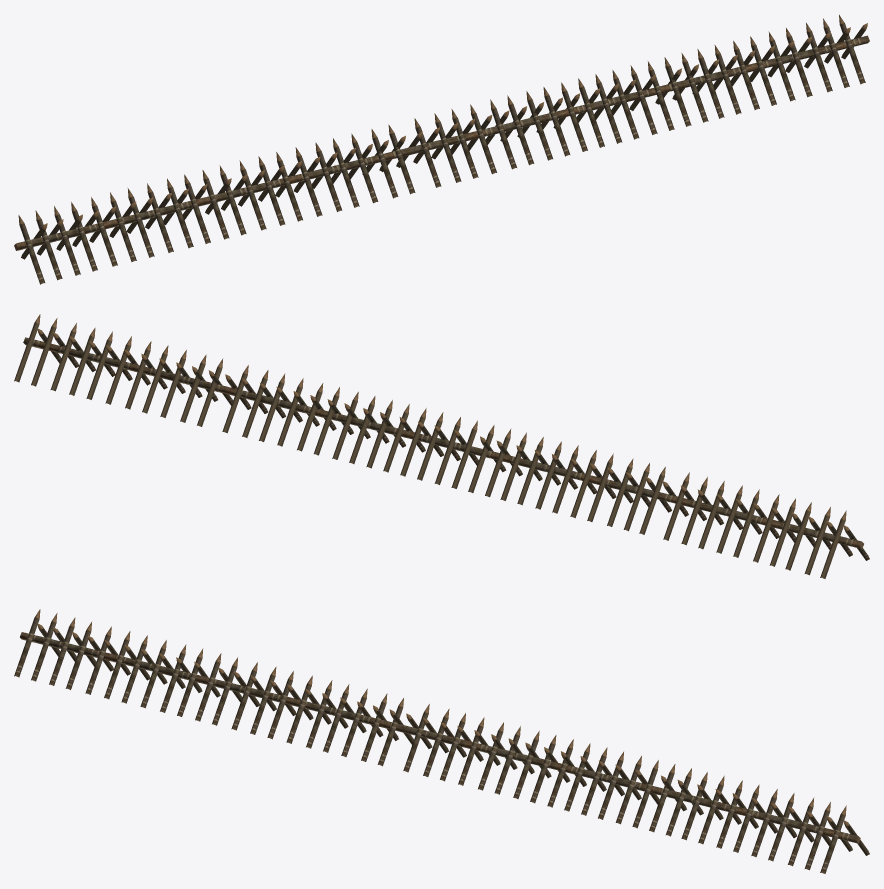
Rendered from barricade_09.glb.
3 renders of one model, top to bottom at view 1: azimuth 30°, elevation 25°; view 2: azimuth 150°, elevation 25°; view 3: azimuth 330°, elevation 25°, orthographic.
Parts seen in each view (by area): view 1: res\artifact\guild\barricade\barricade_09.bsr; view 2: res\artifact\guild\barricade\barricade_09.bsr; view 3: res\artifact\guild\barricade\barricade_09.bsr.
Boxes of the visible parts, bbox=[...] form: res\artifact\guild\barricade\barricade_09.bsr: bbox=[14, 14, 869, 284]; res\artifact\guild\barricade\barricade_09.bsr: bbox=[14, 314, 869, 578]; res\artifact\guild\barricade\barricade_09.bsr: bbox=[14, 609, 869, 873].
Size of the model in its own units: 261 by 15.73 by 18.44.
2 materials, 2 textured.
